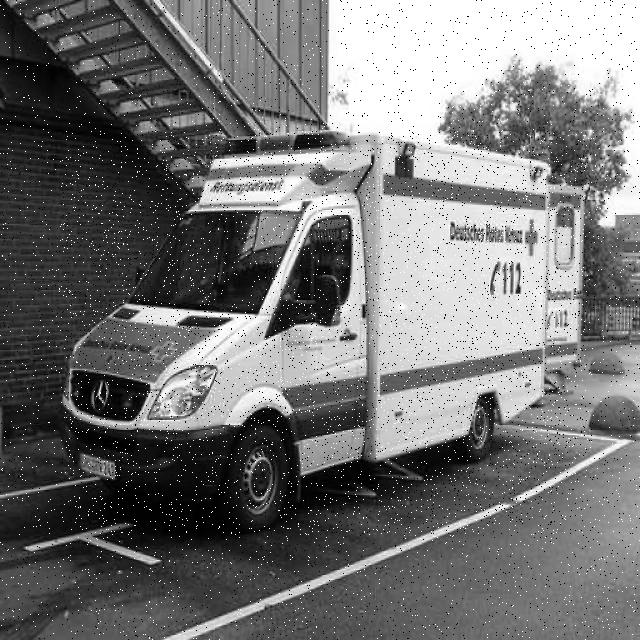Ambulance: (61, 131, 586, 534)
